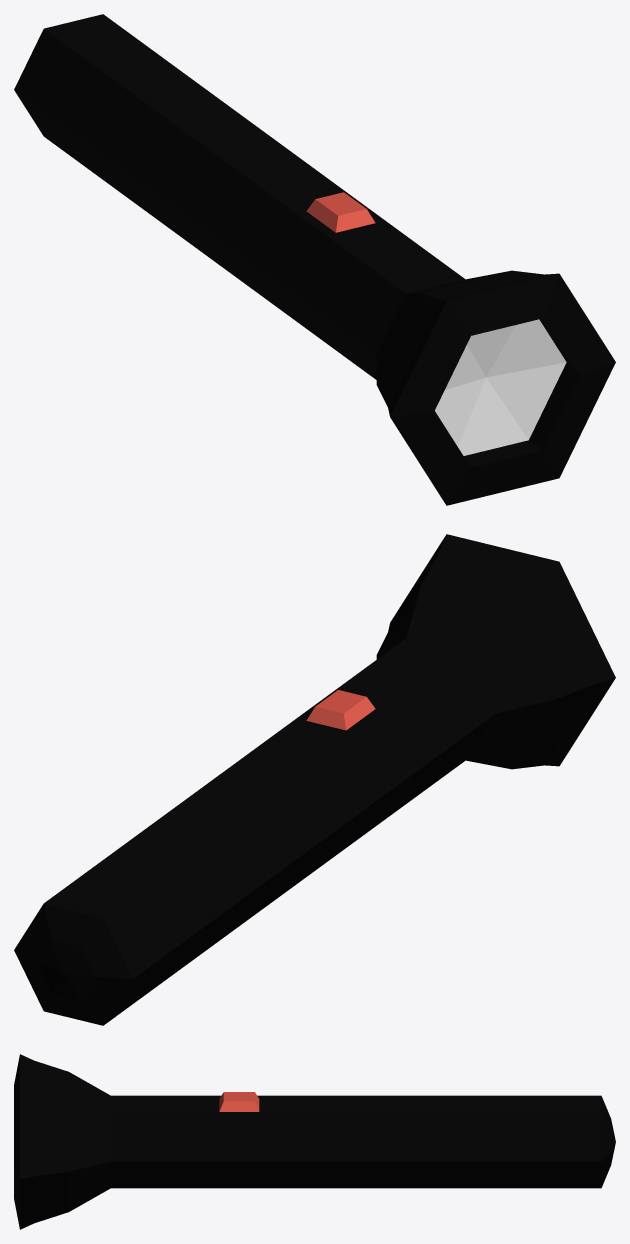
File: Flashlight.fbx
3 renders of one model, top to bottom at view 1: azimuth 30°, elevation 25°; view 2: azimuth 150°, elevation 25°; view 3: azimuth 270°, elevation 25°, orthographic. The views are drawn at different scales.
Parts seen in each view (by area): view 1: FlashLight; view 2: FlashLight; view 3: FlashLight.
Boxes of the visible parts, x1,y1,x2,y2 form: FlashLight: [14, 14, 615, 505]; FlashLight: [14, 534, 615, 1025]; FlashLight: [14, 1054, 615, 1229].
Size of the model in its own units: 7.59 by 6.57 by 25.88.
1 material, 1 textured.
